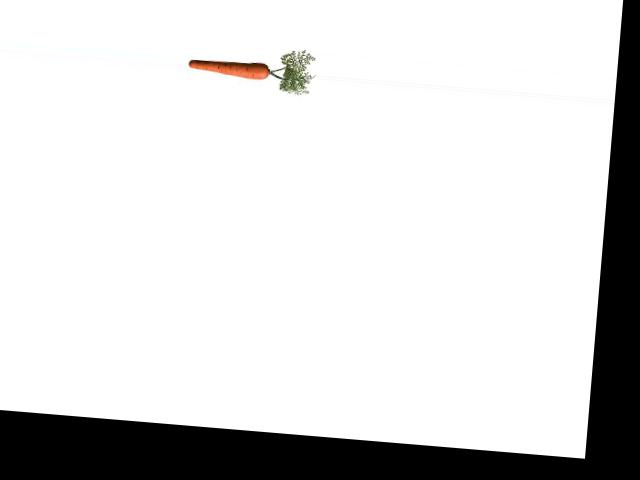carrot: (184, 51, 277, 84)
